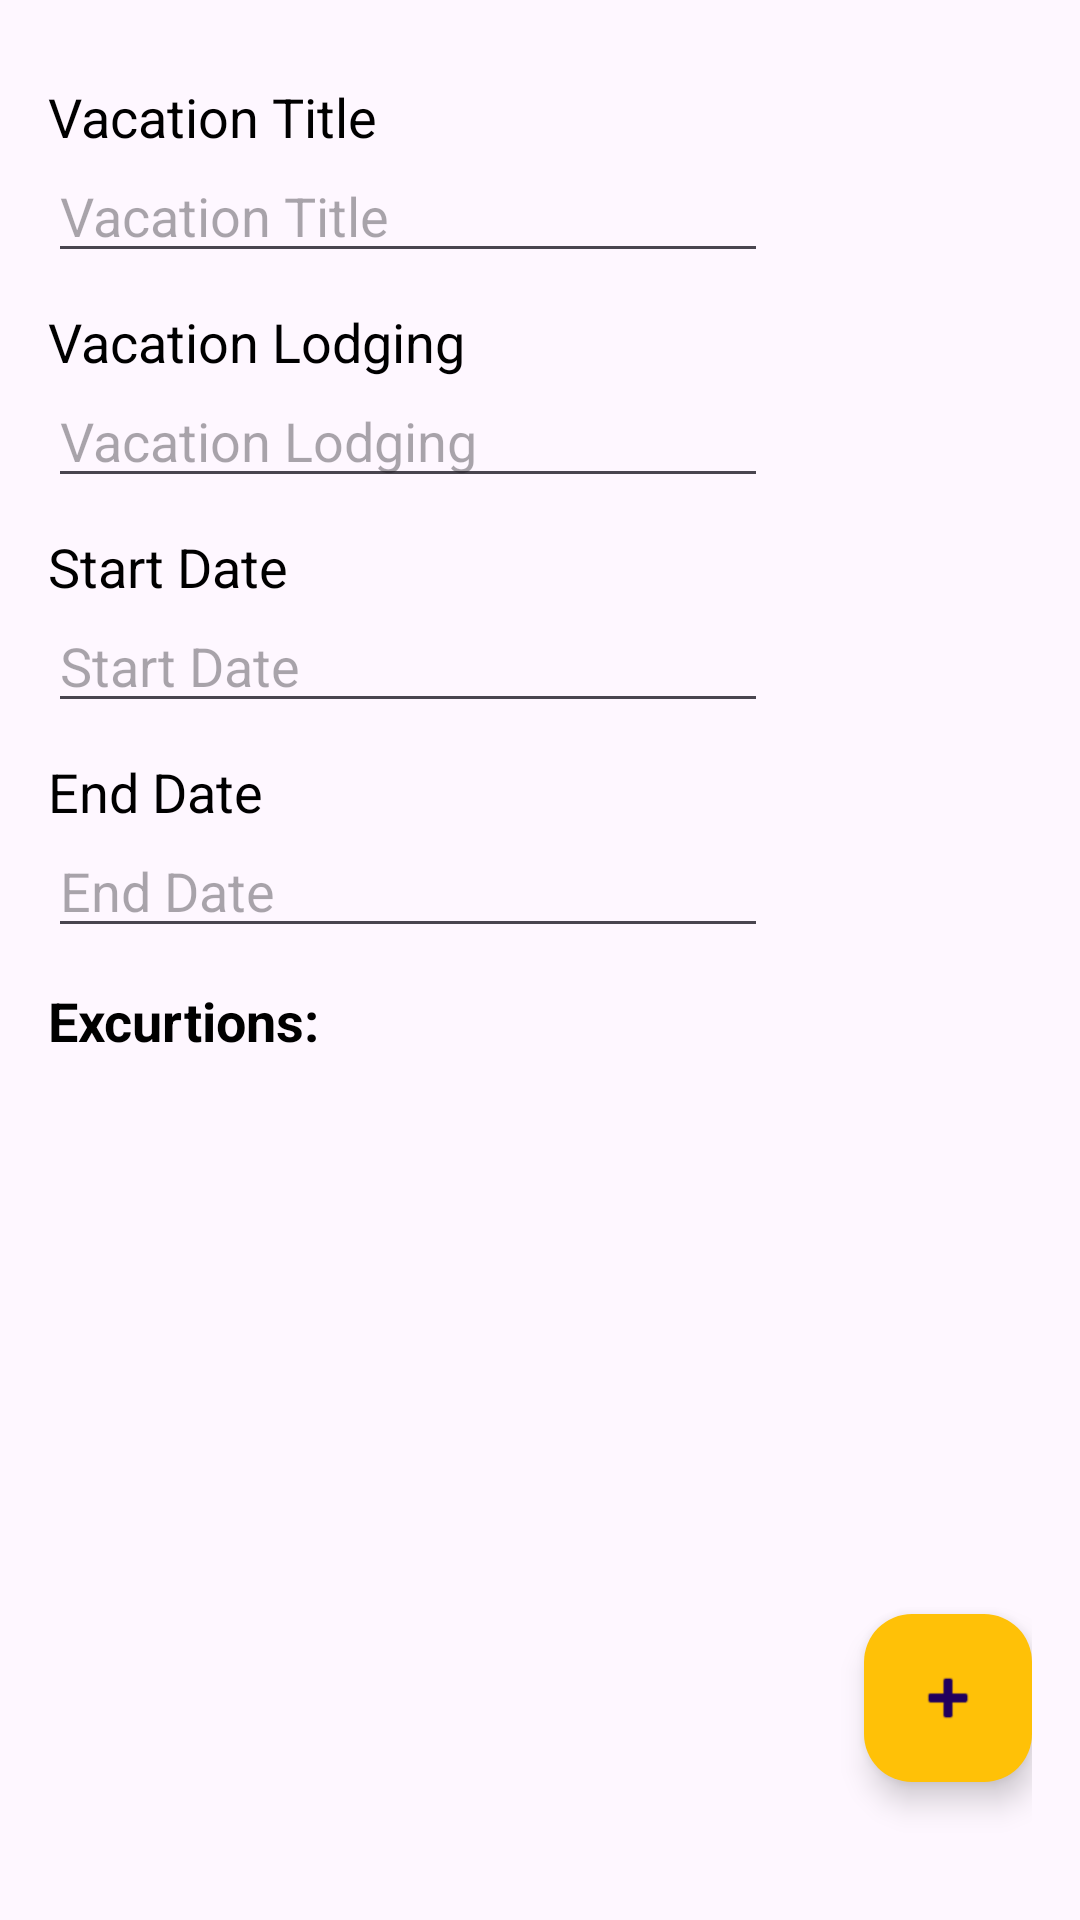

Locate icon controls on the screen. Image size 1080w x 1920h, boxes as bbox=[x1, y1, x2, y2].
add: bbox=[864, 1614, 1032, 1782]
